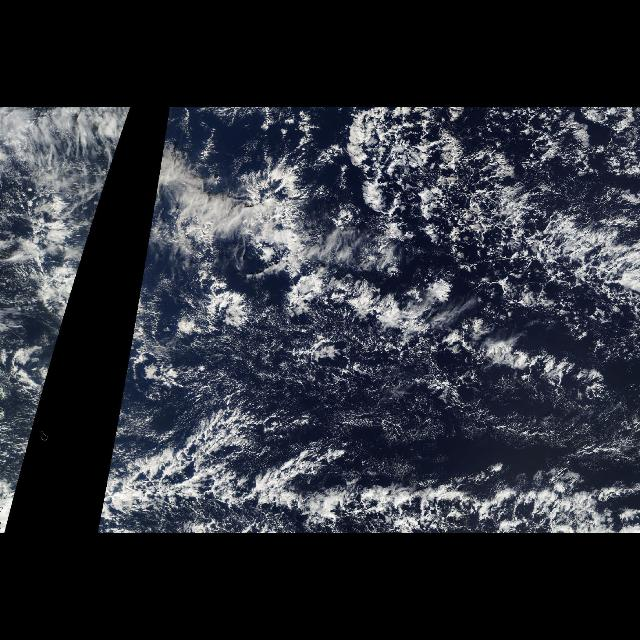Fish: (110, 107, 636, 531), (110, 108, 132, 172)
Gravel: (217, 229, 579, 451)
